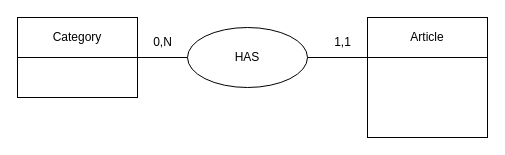
Some shapes in this 505 by 155 pixel diagram are drawn without their labels. Here are the shapes that lost their labels. From the top down, the centre of each, then its label:
point (77, 77): name
point (427, 97): Title description
